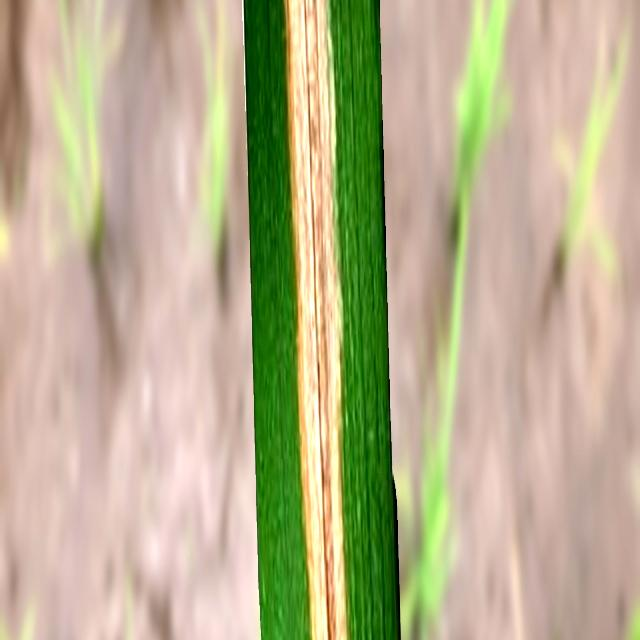BLB: (284, 0, 348, 640)
